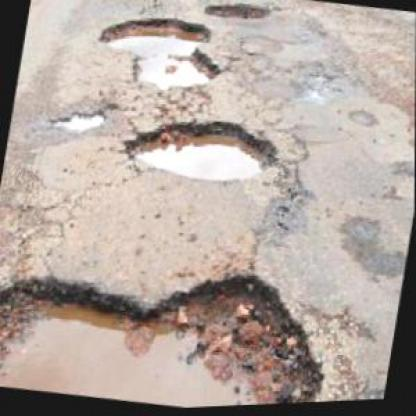pothole: (115, 100, 286, 194), (91, 4, 229, 100), (203, 0, 273, 28), (50, 103, 107, 136)
